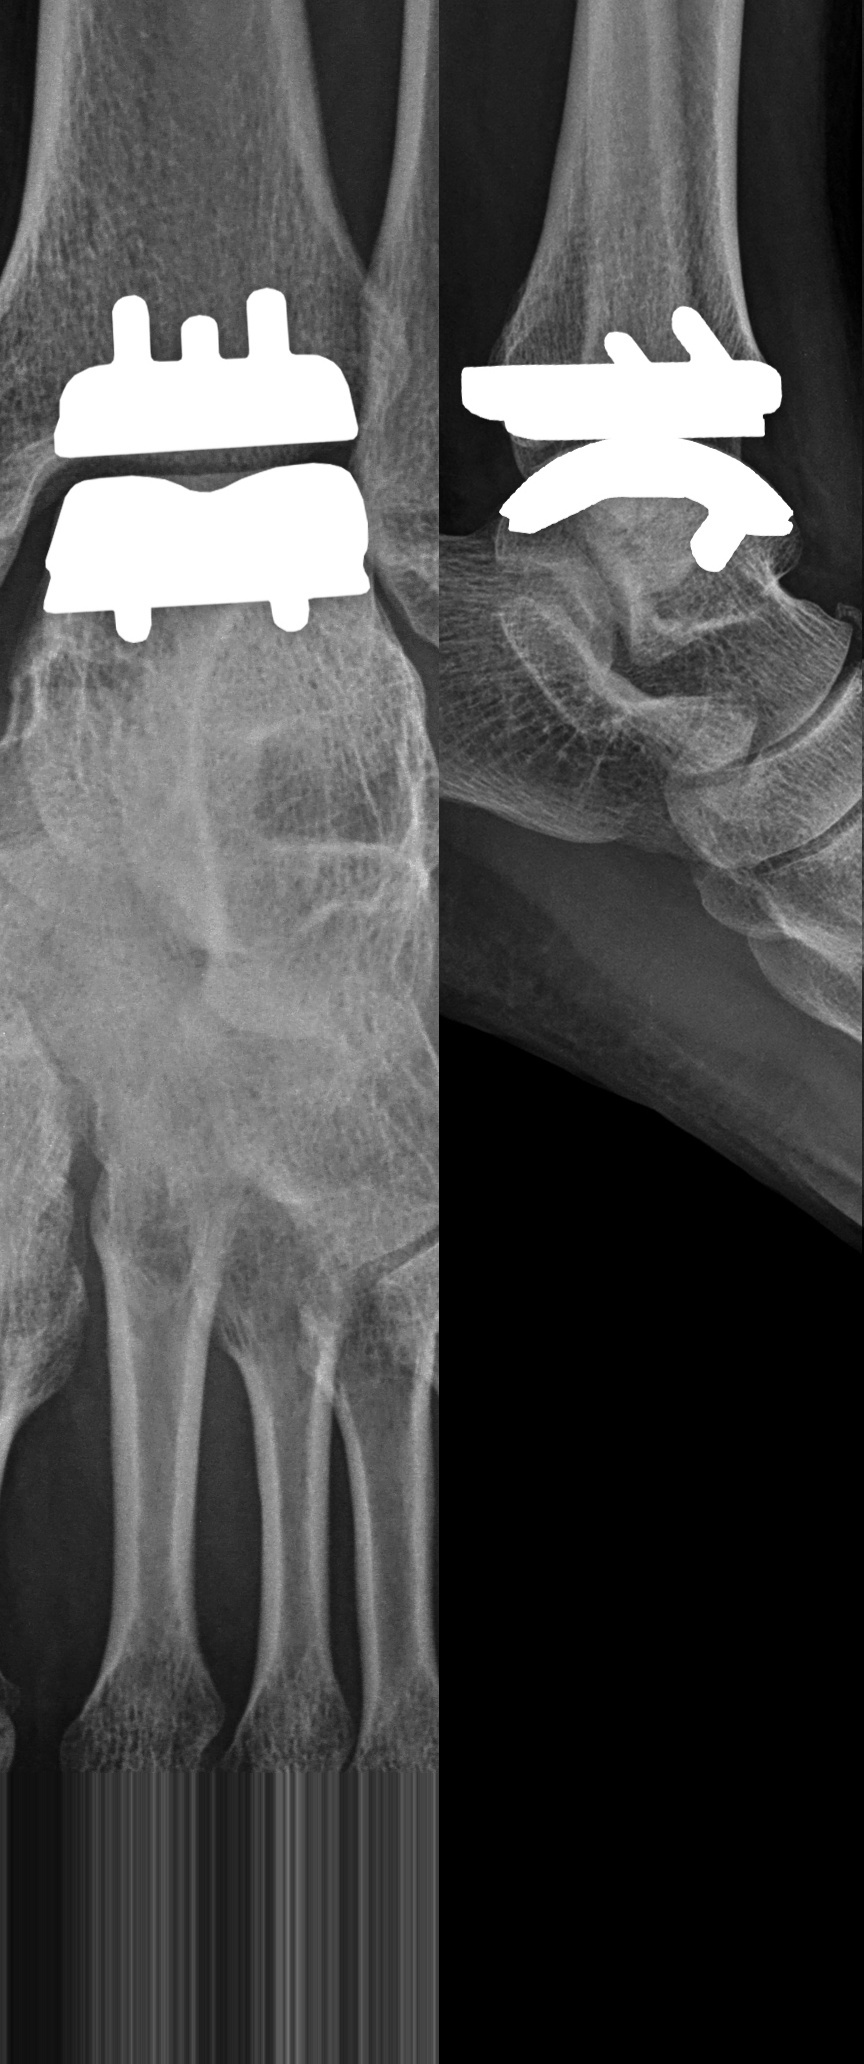Ankle - Infinity - Wright: (36, 261, 381, 658), (446, 290, 809, 595)
